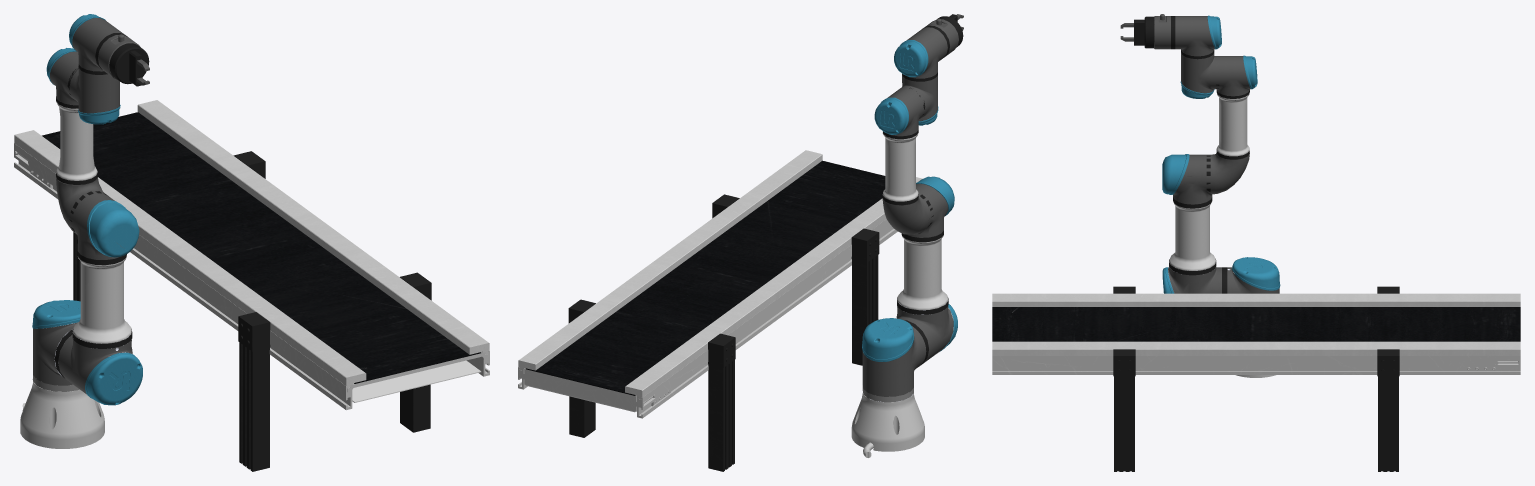
The model's file is UR_Pick_and_Place_Station.glb.
3 views of the same model, side by side, from view 1: azimuth 30°, elevation 25°; view 2: azimuth 150°, elevation 25°; view 3: azimuth 270°, elevation 25° (orthographic). The views are drawn at different scales.
Parts seen in each view (by area): view 1: color-6[2], URjoint2_Bodies, color-6[3], color-6[4], color-6[5], URjoint3_Bodies, color-7[1], URbase_Bodies, URjoint1_Bodies, URjoint4_Bodies, color-6[1], color-7[2] (+4 smaller); view 2: color-6[2], color-6[3], URjoint2_Bodies, color-6[4], URjoint3_Bodies, URjoint1_Bodies, color-6[5], color-7, URbase_Bodies, color-7[1], color-6, URjoint5_Bodies (+3 smaller); view 3: color-6[2], color-6[5], color-6[3], color-6[4], URjoint2_Bodies, URjoint3_Bodies, color-7[2], color-7[3], URjoint5_Bodies, URjoint1_Bodies, URjoint4_Bodies, color-6 (+2 smaller).
Part boxes in pixels (x1,y1,x2,y2): color-6[2]: (42, 112, 481, 383); URjoint2_Bodies: (54, 190, 142, 405); color-6[3]: (137, 100, 489, 354); color-6[4]: (14, 130, 366, 387); color-6[5]: (38, 161, 489, 410); URjoint3_Bodies: (46, 48, 108, 231); color-7[1]: (238, 312, 270, 471); URbase_Bodies: (20, 379, 104, 448); URjoint1_Bodies: (32, 300, 80, 391); URjoint4_Bodies: (67, 66, 120, 124); color-6[1]: (352, 360, 481, 402); color-7[2]: (400, 272, 431, 432); color-6[2]: (525, 160, 885, 395); color-6[3]: (518, 150, 822, 370); URjoint2_Bodies: (893, 176, 957, 364); color-6[4]: (625, 177, 922, 399); URjoint3_Bodies: (874, 86, 933, 234); URjoint1_Bodies: (862, 318, 926, 402); color-6[5]: (663, 219, 897, 402); color-7: (708, 333, 735, 471); URbase_Bodies: (851, 393, 924, 457); color-7[1]: (851, 228, 879, 365); color-6: (518, 367, 670, 418); URjoint5_Bodies: (894, 27, 947, 81); color-6[2]: (992, 307, 1520, 341); color-6[5]: (992, 356, 1481, 374); color-6[3]: (992, 341, 1520, 355); color-6[4]: (992, 293, 1520, 306); URjoint2_Bodies: (1162, 154, 1227, 293); URjoint3_Bodies: (1206, 55, 1257, 193); color-7[2]: (1113, 349, 1135, 471); color-7[3]: (1377, 349, 1399, 471); URjoint5_Bodies: (1175, 15, 1221, 59); URjoint1_Bodies: (1227, 257, 1280, 293); URjoint4_Bodies: (1180, 52, 1219, 98); color-6: (1465, 356, 1520, 374).
Bounding box in the file's own units: 0.5517 × 0.7308 × 1.
Materials: 12 (9 with a texture image).
